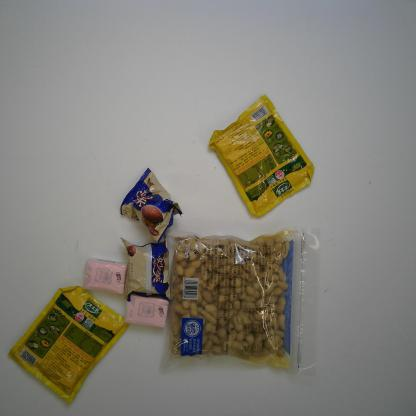Dessert: (118, 166, 184, 244), (118, 232, 173, 305)
Dried Food: (154, 222, 324, 382)
Seasoner: (5, 284, 130, 406), (207, 93, 316, 218)
Tissue: (82, 256, 129, 296), (123, 290, 170, 329)
